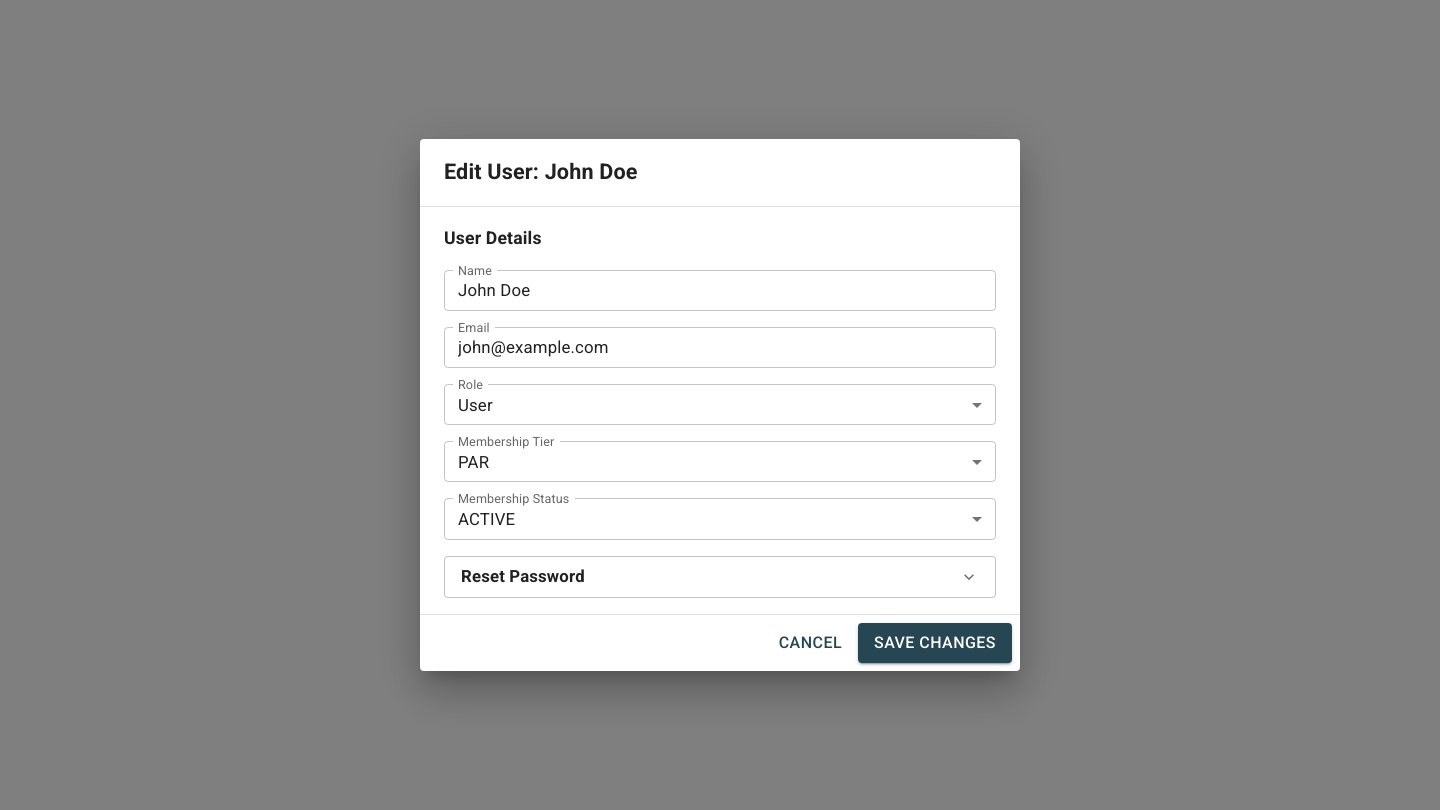
EditUserModal › should show password reset alert in accordion
This screenshot has width=1440, height=810.
Click the button "Reset Password". click: [523, 576]
box: [445, 556, 995, 596]
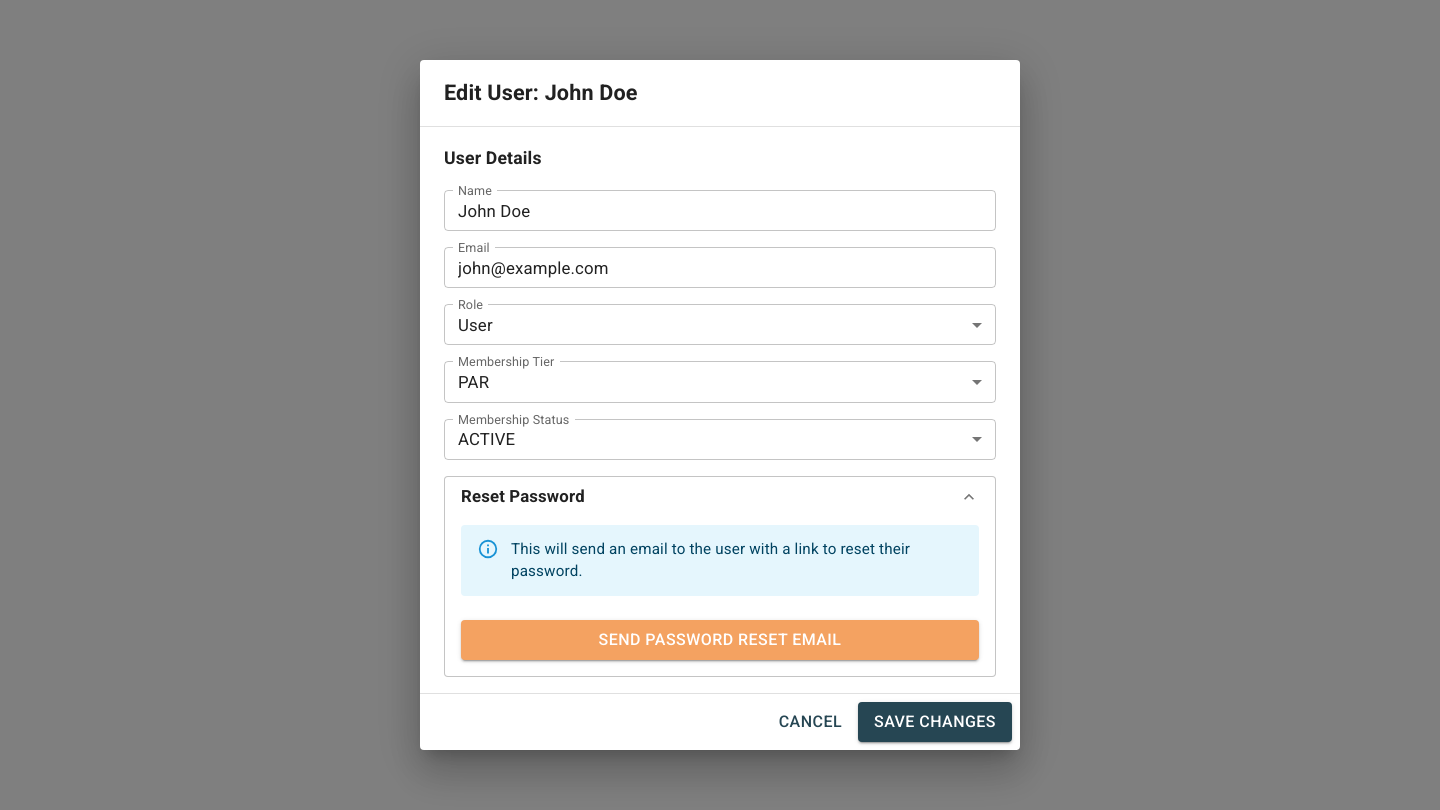
Expected: the text "This will send an email to the user" is shown, [511, 540, 910, 580]
